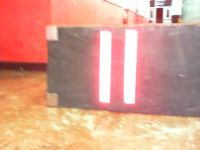switch: (123, 29, 138, 104), (99, 30, 113, 104)
